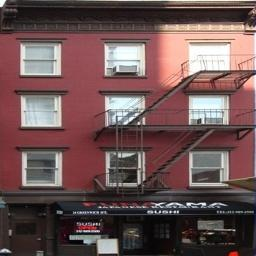building: (1, 0, 256, 251)
